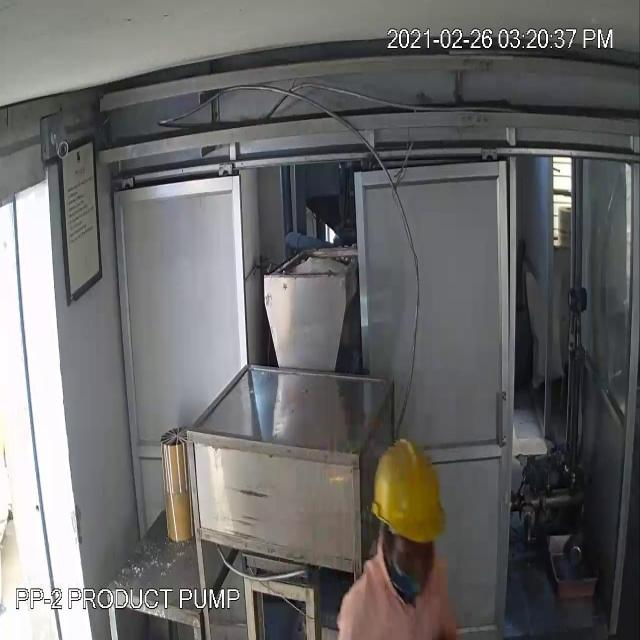helmet: (361, 428, 463, 588)
